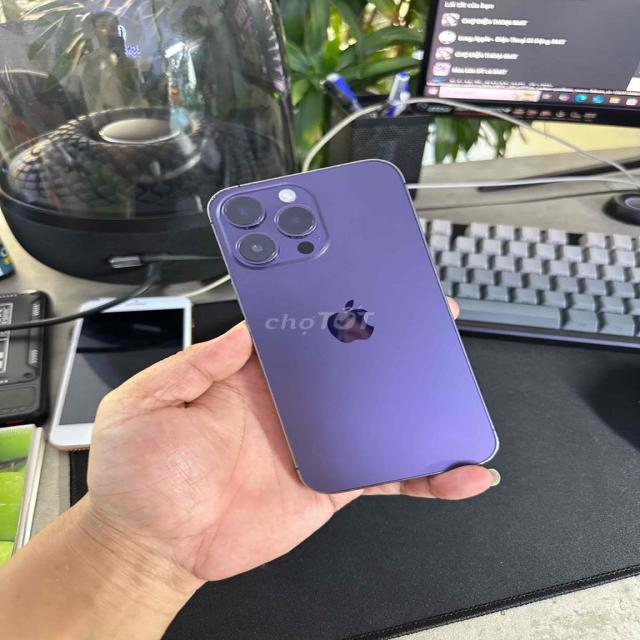gen_14: (203, 156, 507, 498)
